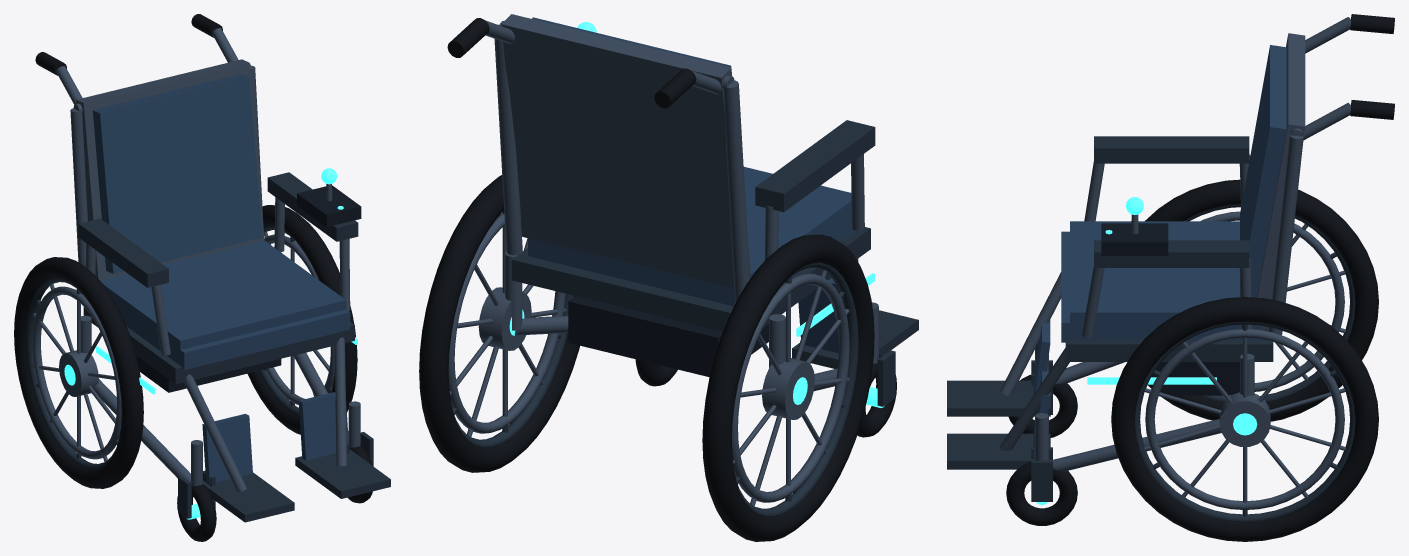
The model's file is wheelchair.glb.
The picture shows the model from 3 angles, left to right: view 1: azimuth 30°, elevation 25°; view 2: azimuth 150°, elevation 25°; view 3: azimuth 270°, elevation 25°; orthographic projection. The views are drawn at different scales.
Parts seen in each view (by area): view 1: backPad, cushion, tire (×3), plate (×2), backPlate, calfPad (×2), pad (×2), rim (×2), cushionFrontEdge, seatFrame, hanger (×2), handrim (×2) (+13 smaller); view 2: backPlate, tire (×4), cushion, rim (×2), seatFrame, pack, pad, handrim (×2), hub (×2), postL, rearWheelL, postR (+10 smaller); view 3: tire (×4), cushion, pad (×2), rim (×2), backPad, plate (×2), handrim (×2), backPlate, rearWheelR, seatFrame, hanger (×2), postR (+14 smaller).
Part boxes in pixels (x1=…): backPad: x1=92, y1=74, x2=262, y2=273; cushion: x1=100, y1=240, x2=346, y2=364; tire (×3): x1=14, y1=205, x2=357, y2=541; plate (×2): x1=203, y1=449, x2=390, y2=522; backPlate: x1=76, y1=59, x2=264, y2=280; calfPad (×2): x1=202, y1=392, x2=348, y2=483; pad (×2): x1=78, y1=172, x2=358, y2=287; rim (×2): x1=32, y1=234, x2=334, y2=459; cushionFrontEdge: x1=174, y1=309, x2=350, y2=369; seatFrame: x1=83, y1=307, x2=354, y2=384; hanger (×2): x1=184, y1=337, x2=347, y2=492; handrim (×2): x1=26, y1=226, x2=299, y2=469; backPlate: x1=501, y1=14, x2=750, y2=288; tire (×4): x1=419, y1=175, x2=896, y2=541; cushion: x1=528, y1=167, x2=855, y2=306; rim (×2): x1=448, y1=213, x2=849, y2=502; seatFrame: x1=511, y1=227, x2=870, y2=331; pack: x1=568, y1=296, x2=768, y2=377; pad: x1=755, y1=120, x2=875, y2=212; handrim (×2): x1=454, y1=211, x2=858, y2=515; hub (×2): x1=478, y1=287, x2=814, y2=419; postL: x1=723, y1=80, x2=749, y2=303; rearWheelL: x1=733, y1=270, x2=849, y2=506; postR: x1=494, y1=24, x2=522, y2=255; tire (×4): x1=1006, y1=179, x2=1378, y2=541; cushion: x1=1070, y1=221, x2=1260, y2=340; pad (×2): x1=1094, y1=136, x2=1249, y2=267; rim (×2): x1=1145, y1=211, x2=1344, y2=509; backPad: x1=1240, y1=45, x2=1286, y2=297; plate (×2): x1=947, y1=380, x2=1050, y2=469; handrim (×2): x1=1135, y1=204, x2=1355, y2=521; backPlate: x1=1256, y1=33, x2=1305, y2=299; rearWheelR: x1=1144, y1=324, x2=1345, y2=516; seatFrame: x1=1065, y1=325, x2=1273, y2=361; hanger (×2): x1=1000, y1=272, x2=1069, y2=450; postR: x1=1268, y1=135, x2=1303, y2=335.
Size of the model in its own units: 0.702 by 1.08 by 1.04.
